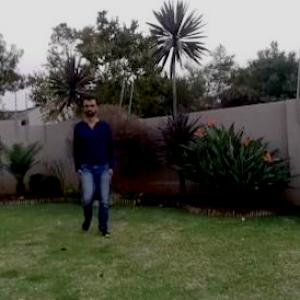follow: (74, 94, 115, 231)
